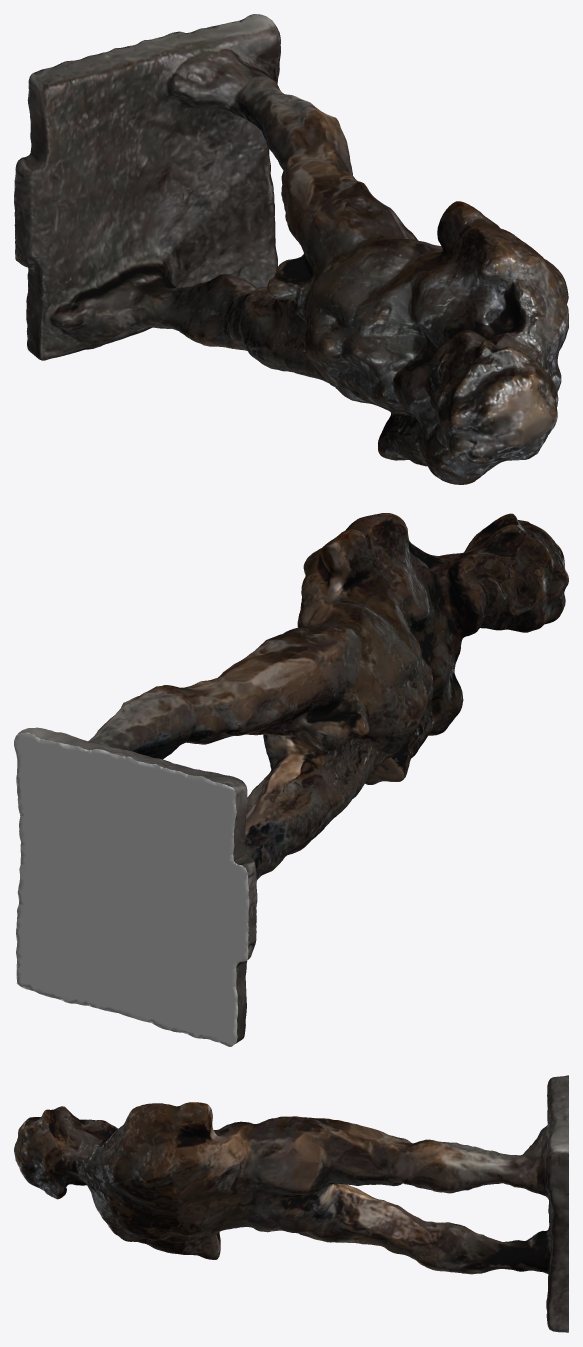
The model's file is Le_Serf.obj.
3 renders of one model, top to bottom at view 1: azimuth 30°, elevation 25°; view 2: azimuth 150°, elevation 25°; view 3: azimuth 270°, elevation 25°, orthographic. The views are drawn at different scales.
Visible parts, largest first — view 1: mmGroup0; view 2: mmGroup0, mmGroup6; view 3: mmGroup0.
Part boxes in pixels (bbox=[...]): mmGroup0: bbox=[14, 14, 568, 484]; mmGroup0: bbox=[17, 513, 568, 1043]; mmGroup6: bbox=[14, 732, 249, 1046]; mmGroup0: bbox=[14, 1075, 568, 1332].
Size of the model in its own units: 0.3282 by 0.3893 by 0.9223.
